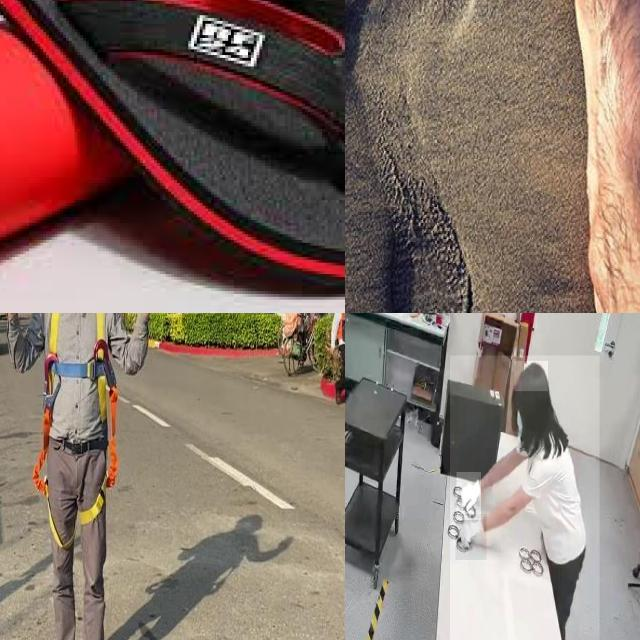Harness: (33, 313, 119, 526)
Sandals: (0, 0, 345, 305), (560, 0, 640, 313)
hand_glove: (455, 514, 487, 561), (457, 472, 481, 520)
head_nohelmet: (514, 361, 548, 392)
person: (450, 355, 600, 640)
